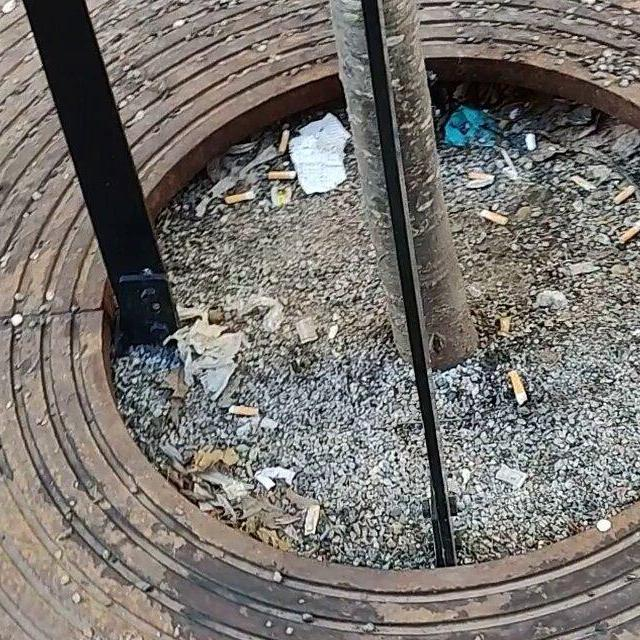Cigarette Butt: (605, 177, 640, 204), (223, 399, 264, 417), (218, 191, 262, 207), (613, 222, 640, 247), (508, 364, 524, 402), (481, 204, 509, 224), (263, 169, 298, 181), (278, 125, 290, 151)
